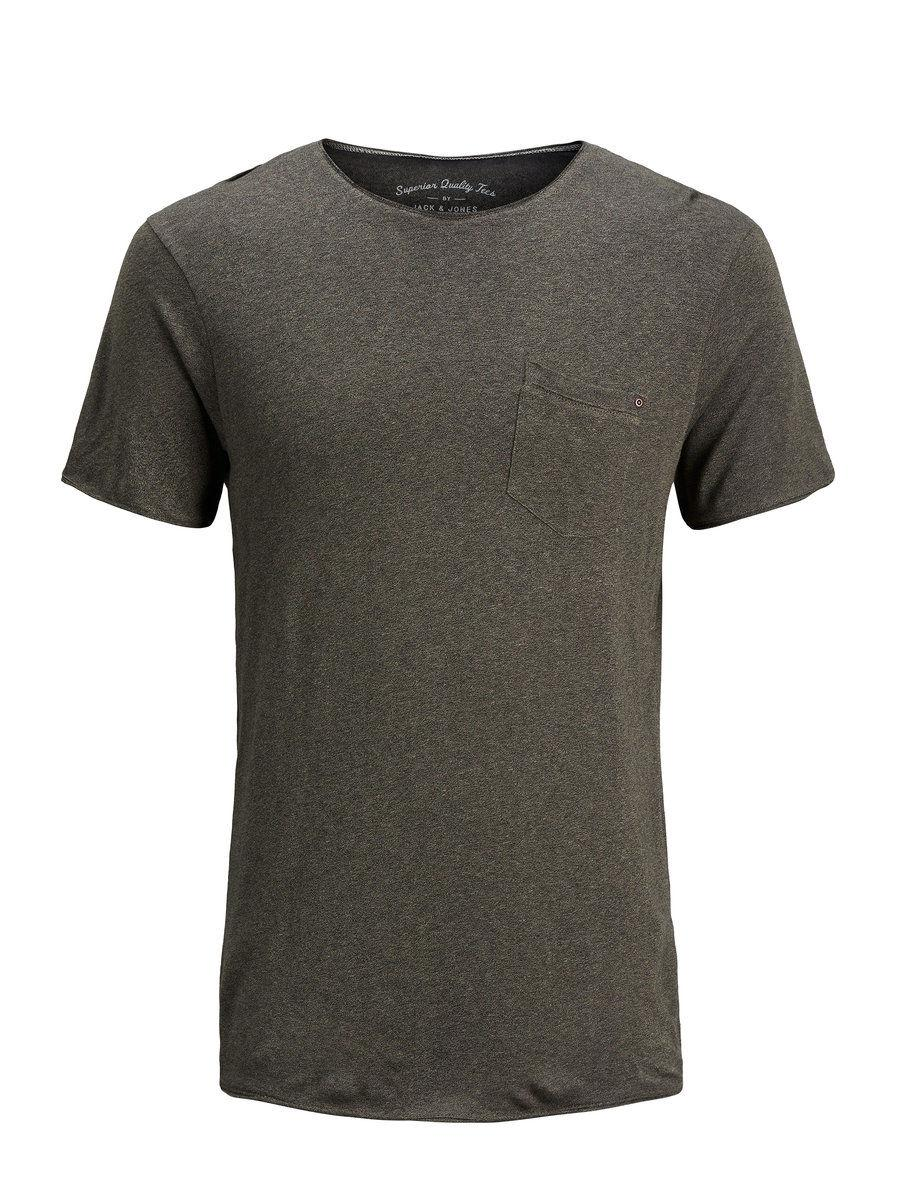teeshirt: (62, 107, 860, 1180)
